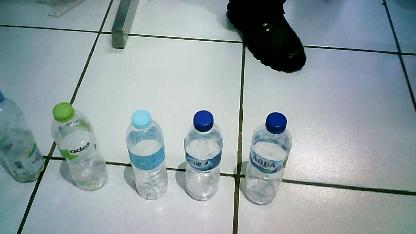Plastic Bottle: (50, 102, 108, 192), (245, 113, 293, 205), (0, 91, 46, 184), (183, 108, 223, 201), (127, 110, 168, 200)
